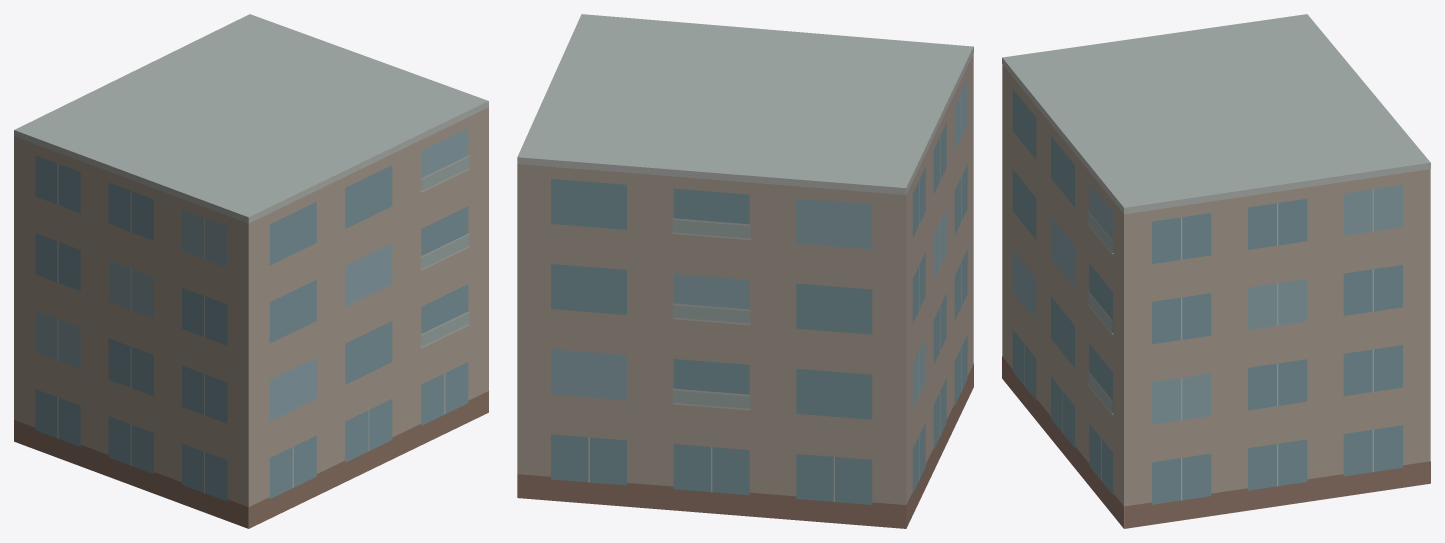
File: survey-upis-32739220.glb
3 renders of one model, left to right at view 1: azimuth 30°, elevation 25°; view 2: azimuth 150°, elevation 25°; view 3: azimuth 270°, elevation 25°, orthographic. The views are drawn at different scales.
Visible parts, largest first — view 1: survey-upis-32739220.tmp; view 2: survey-upis-32739220.tmp; view 3: survey-upis-32739220.tmp.
Part boxes in pixels (<box>): survey-upis-32739220.tmp: <box>14,14,488,528</box>; survey-upis-32739220.tmp: <box>517,14,973,528</box>; survey-upis-32739220.tmp: <box>1002,14,1430,528</box>.
Size of the model in its own units: 15.82 by 12.2 by 14.78.
